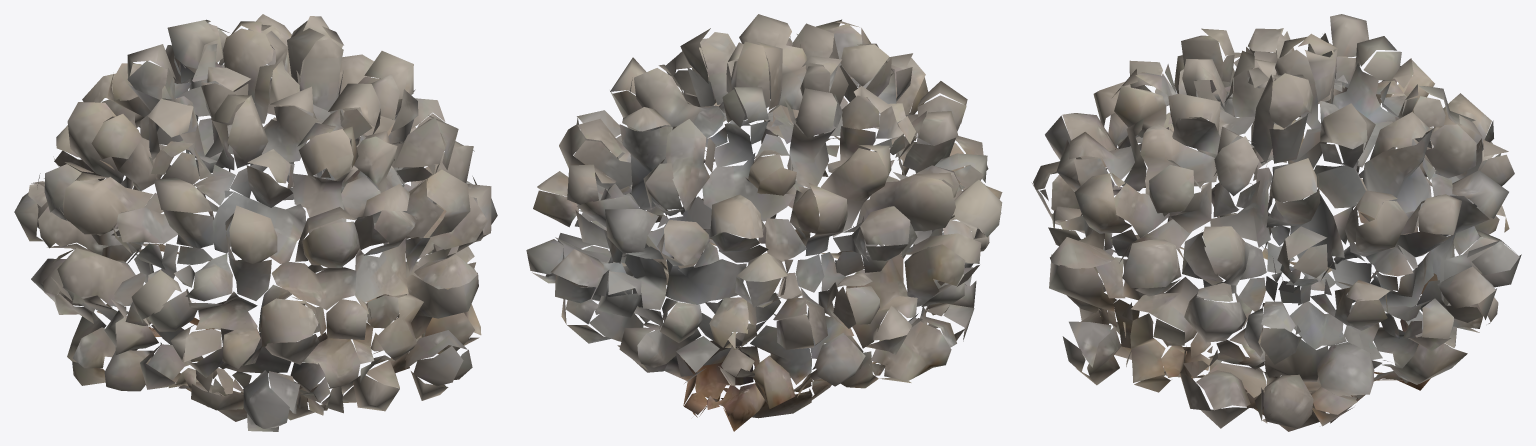
The model's file is coral_bubble.glb.
The picture shows the model from 3 angles, left to right: view 1: azimuth 30°, elevation 25°; view 2: azimuth 150°, elevation 25°; view 3: azimuth 270°, elevation 25°; orthographic projection. The views are drawn at different scales.
Visible parts, largest first — view 1: tripo_node_e2ddffae-856a-41bc-a3d0-1c1451b8b479; view 2: tripo_node_e2ddffae-856a-41bc-a3d0-1c1451b8b479; view 3: tripo_node_e2ddffae-856a-41bc-a3d0-1c1451b8b479.
Part boxes in pixels (box(x1,y1,x2,y2)): tripo_node_e2ddffae-856a-41bc-a3d0-1c1451b8b479: box(14, 14, 497, 431); tripo_node_e2ddffae-856a-41bc-a3d0-1c1451b8b479: box(526, 14, 1002, 431); tripo_node_e2ddffae-856a-41bc-a3d0-1c1451b8b479: box(1031, 14, 1521, 431).
Size of the model in its own units: 0.991 by 0.85 by 0.9995.
1 material, 1 textured.
